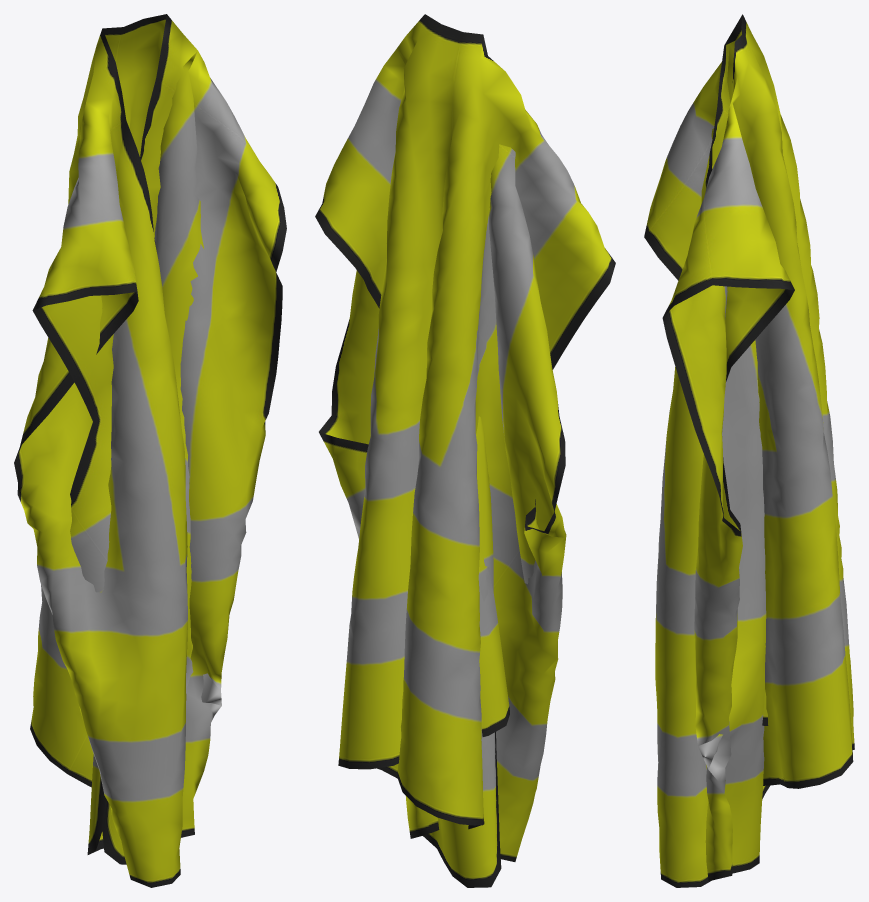
File: hivis.glb
3 renders of one model, left to right at view 1: azimuth 30°, elevation 25°; view 2: azimuth 150°, elevation 25°; view 3: azimuth 270°, elevation 25°, orthographic. The views are drawn at different scales.
Parts seen in each view (by area): view 1: high-vis-vest-1-1_0; view 2: high-vis-vest-1-1_0; view 3: high-vis-vest-1-1_0.
Boxes of the visible parts, x1,y1,x2,y2 form: high-vis-vest-1-1_0: (14,14,286,887); high-vis-vest-1-1_0: (315,14,615,887); high-vis-vest-1-1_0: (644,14,854,887).
Bounding box in the file's own units: 0.2451 × 0.7579 × 0.1696.
1 material, 1 textured.
